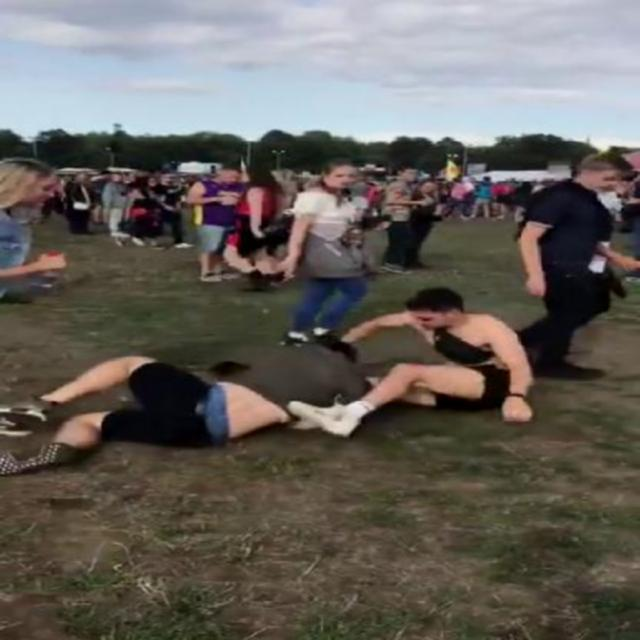fight: (0, 281, 542, 474)
